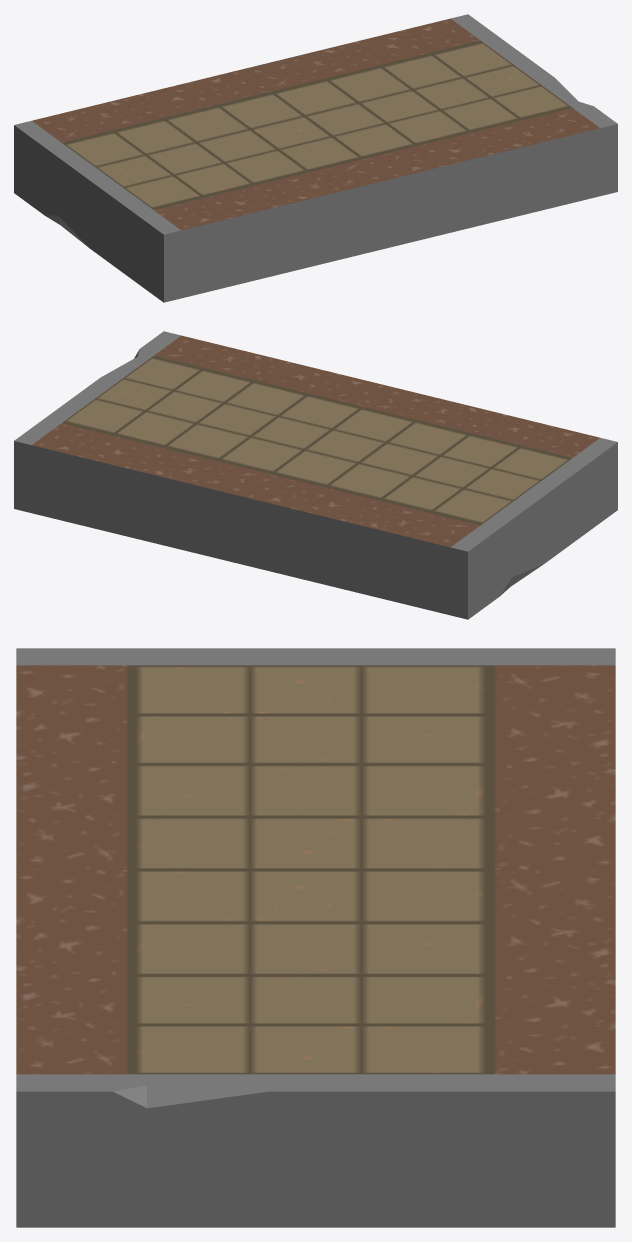
File: SW_ENV_StationStair_Landing_FF.fbx
The picture shows the model from 3 angles, top to bottom: view 1: azimuth 30°, elevation 25°; view 2: azimuth 150°, elevation 25°; view 3: azimuth 270°, elevation 25°; orthographic projection. The views are drawn at different scales.
Visible parts, largest first — view 1: SW_ENV_StationStair_Landing_FF; view 2: SW_ENV_StationStair_Landing_FF; view 3: SW_ENV_StationStair_Landing_FF.
Boxes of the visible parts, bbox=[...] form: SW_ENV_StationStair_Landing_FF: bbox=[14, 14, 617, 302]; SW_ENV_StationStair_Landing_FF: bbox=[14, 331, 617, 619]; SW_ENV_StationStair_Landing_FF: bbox=[16, 648, 615, 1227].
Bounding box in the file's own units: 420 × 60.13 × 240.
